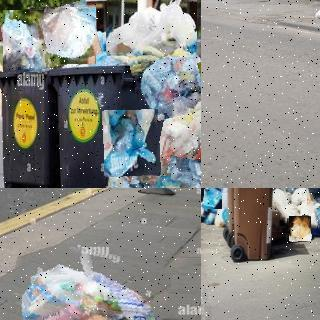Garbage: (2, 242, 169, 320), (131, 45, 201, 120), (106, 0, 197, 56), (25, 3, 100, 69), (147, 104, 201, 182), (103, 110, 161, 177), (1, 9, 47, 74), (171, 155, 201, 188), (288, 215, 312, 242), (203, 188, 222, 209), (306, 188, 320, 206), (315, 204, 320, 238), (314, 7, 320, 19)
